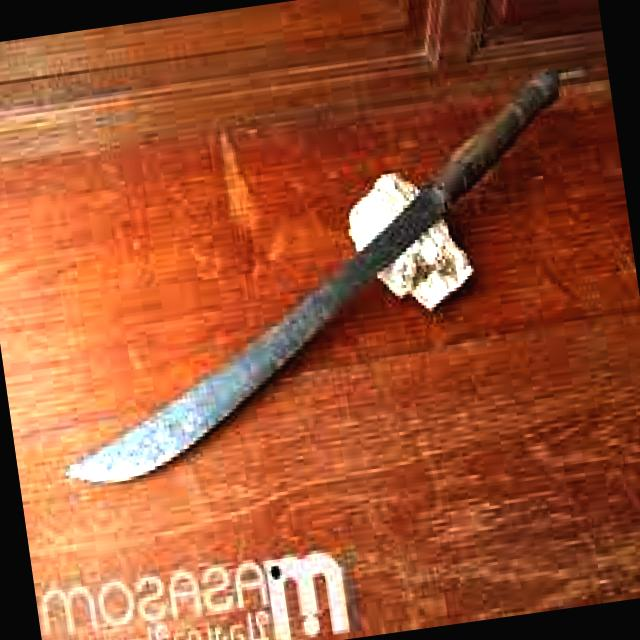long sword: (24, 65, 612, 490)
